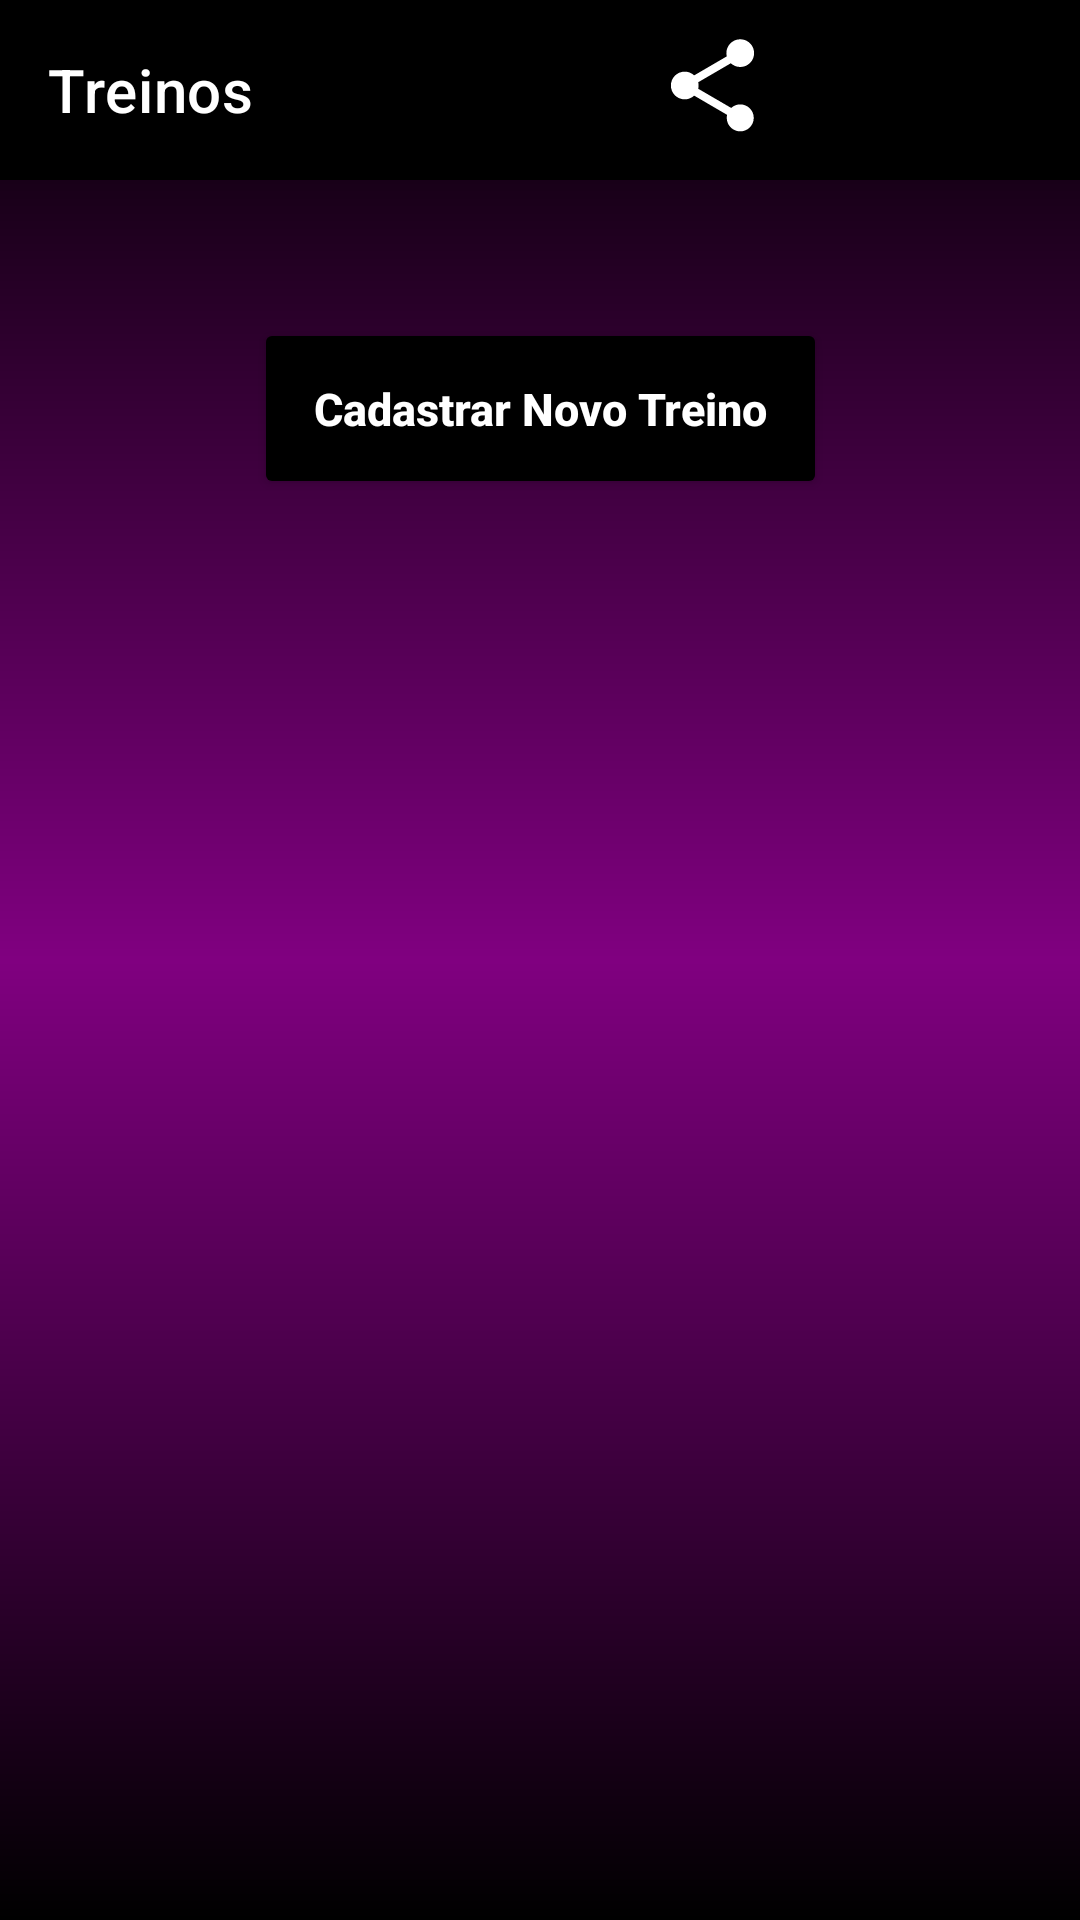

Screen size 1080 × 1920. Icon name, then its box in pixels as bbox=[x1, y1, x2, y2]:
share: bbox=[671, 39, 754, 132]
